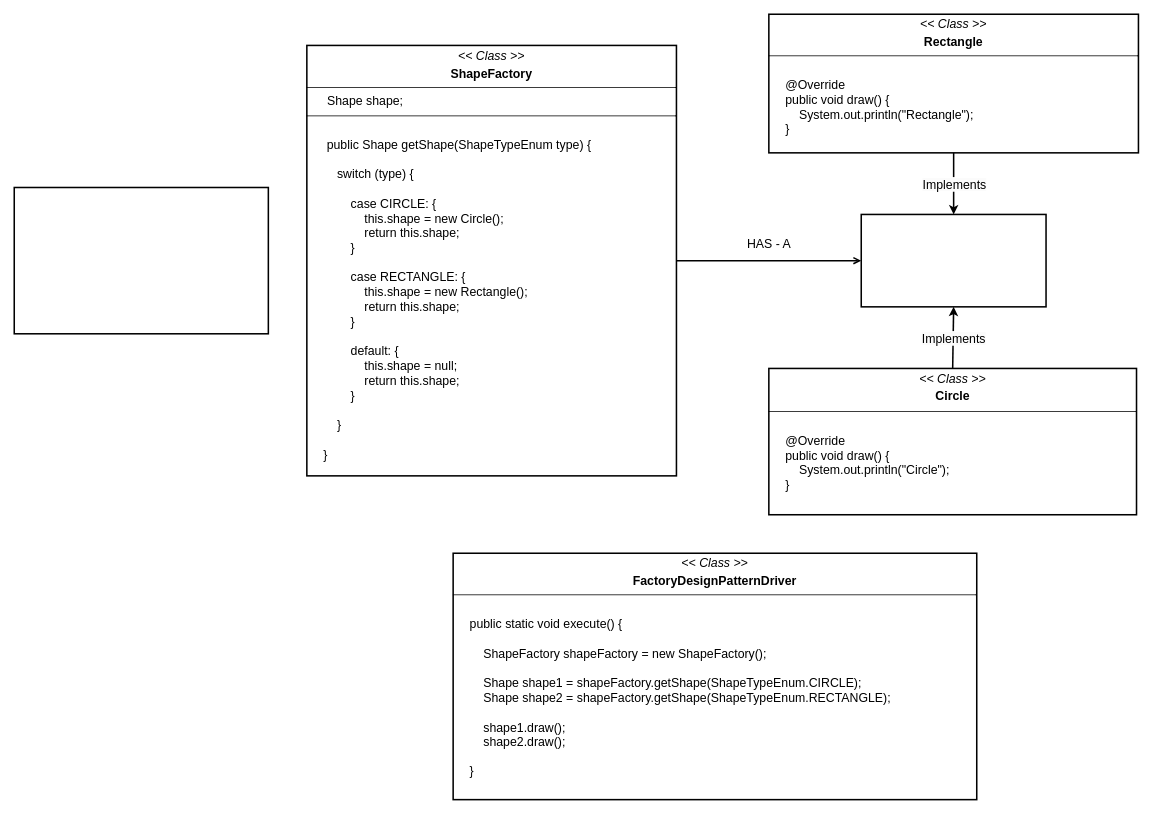
The diagram is 1152 pixels wide and 813 high, and some of its shapes have lost their labels. Each missing label, with the centre of its shape:
"<< enum >> ShapeTypeEnum public enum ShapeTypeEnum { CIRCLE, RECTANGLE }" goes at point 141,260.
"<<Interface>> Shape void draw();" goes at point 953,260.
